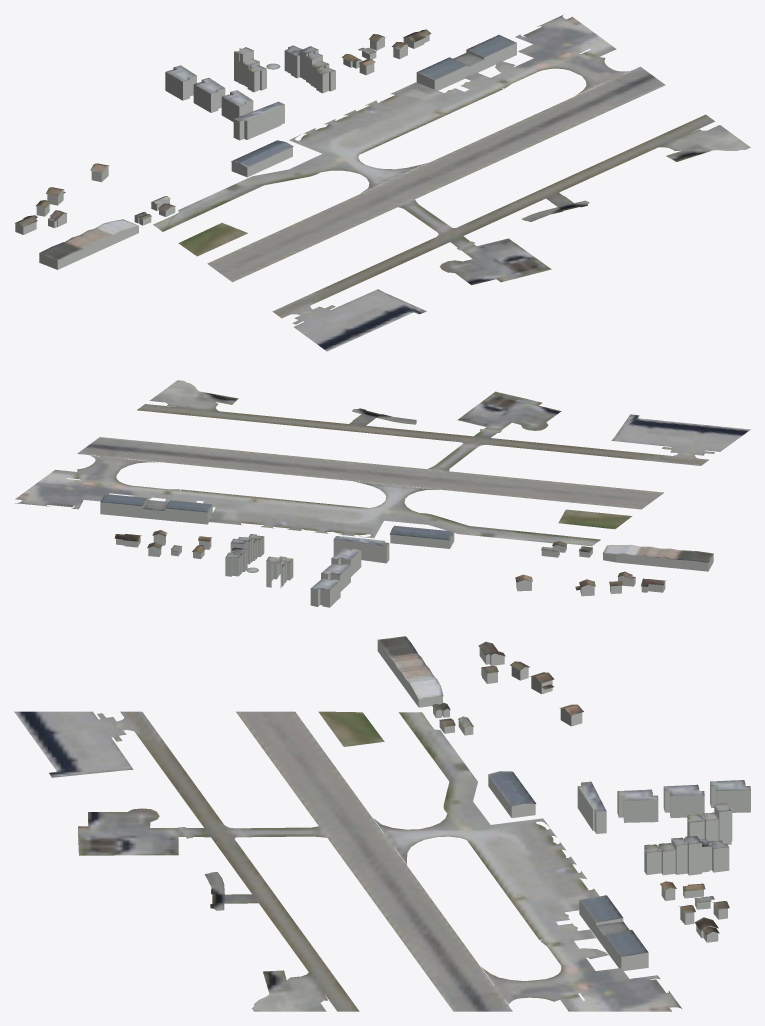
The model's file is LSGS_0_0.glb.
3 views of the same model, one above another, from view 1: azimuth 30°, elevation 25°; view 2: azimuth 150°, elevation 25°; view 3: azimuth 270°, elevation 25° (orthographic). The views are drawn at different scales.
Parts seen in each view (by area): view 1: pavement_LSGS_pavement_5183_2237, building_e7c67801be353af5, building_d842b905843ac326, building_4eecc1f5b54bdffa, building_60aab0877b785a69, building_19759f0eaea8d690, building_47bcc76d7792c904, building_de23b92e2b15cf1b, building_157ffb9922d72b87, building_f416cf81e31a5430, building_c121bccd55976c29; view 2: pavement_LSGS_pavement_5183_2237, building_d842b905843ac326, building_e7c67801be353af5, building_4eecc1f5b54bdffa, building_60aab0877b785a69, building_19759f0eaea8d690, building_47bcc76d7792c904, building_de23b92e2b15cf1b, building_157ffb9922d72b87, building_f416cf81e31a5430, building_c121bccd55976c29; view 3: pavement_LSGS_pavement_5183_2237, building_d842b905843ac326, building_e7c67801be353af5, building_4eecc1f5b54bdffa, building_60aab0877b785a69, building_19759f0eaea8d690, building_47bcc76d7792c904, building_157ffb9922d72b87, building_f416cf81e31a5430, building_de23b92e2b15cf1b.
Boxes of the visible parts, left/top/right/bottom form: pavement_LSGS_pavement_5183_2237: left=153, top=15, right=750, bottom=351; building_e7c67801be353af5: left=165, top=50, right=284, bottom=140; building_d842b905843ac326: left=284, top=34, right=516, bottom=93; building_4eecc1f5b54bdffa: left=285, top=29, right=516, bottom=80; building_60aab0877b785a69: left=166, top=47, right=284, bottom=121; building_19759f0eaea8d690: left=39, top=219, right=138, bottom=260; building_47bcc76d7792c904: left=15, top=166, right=175, bottom=234; building_de23b92e2b15cf1b: left=39, top=226, right=138, bottom=269; building_157ffb9922d72b87: left=15, top=163, right=175, bottom=227; building_f416cf81e31a5430: left=231, top=140, right=293, bottom=167; building_c121bccd55976c29: left=231, top=147, right=292, bottom=177; pavement_LSGS_pavement_5183_2237: left=15, top=380, right=750, bottom=546; building_d842b905843ac326: left=100, top=499, right=264, bottom=576; building_e7c67801be353af5: left=254, top=539, right=389, bottom=607; building_4eecc1f5b54bdffa: left=100, top=494, right=263, bottom=558; building_60aab0877b785a69: left=246, top=536, right=388, bottom=590; building_19759f0eaea8d690: left=602, top=544, right=713, bottom=562; building_47bcc76d7792c904: left=516, top=545, right=665, bottom=596; building_de23b92e2b15cf1b: left=603, top=553, right=713, bottom=571; building_157ffb9922d72b87: left=515, top=541, right=665, bottom=590; building_f416cf81e31a5430: left=389, top=525, right=454, bottom=540; building_c121bccd55976c29: left=390, top=533, right=454, bottom=548; pavement_LSGS_pavement_5183_2237: left=14, top=711, right=681, bottom=1011; building_d842b905843ac326: left=579, top=837, right=729, bottom=970; building_e7c67801be353af5: left=577, top=782, right=750, bottom=844; building_4eecc1f5b54bdffa: left=579, top=836, right=729, bottom=956; building_60aab0877b785a69: left=578, top=780, right=750, bottom=822; building_19759f0eaea8d690: left=377, top=636, right=443, bottom=699; building_47bcc76d7792c904: left=433, top=648, right=582, bottom=735; building_157ffb9922d72b87: left=432, top=641, right=583, bottom=727; building_f416cf81e31a5430: left=488, top=771, right=536, bottom=806; building_de23b92e2b15cf1b: left=377, top=640, right=442, bottom=707.
Size of the model in its own units: 615 by 27.47 by 517.
3 materials, 2 textured.
